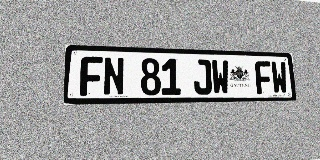1: (161, 58, 181, 95)
8: (141, 58, 161, 95)
F: (80, 56, 103, 96), (255, 61, 272, 94)
J: (193, 59, 212, 95)
N: (103, 57, 124, 96)
W: (211, 60, 230, 95), (271, 61, 288, 94)
